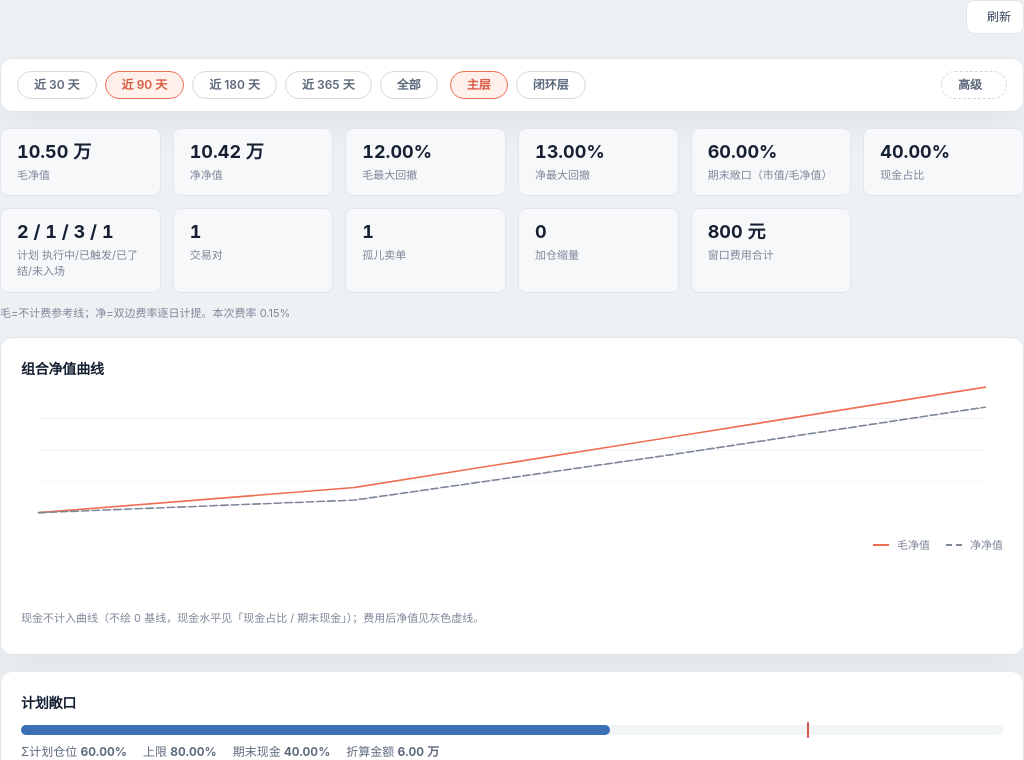
Test: ViewPortfolio › 高级三区默认关（portfolio-adv-start null），点「高级」后起始日/自选观察/假想线在
Click the button with test id "portfolio-adv-toggle" at (974,85), box [941, 71, 1007, 99]
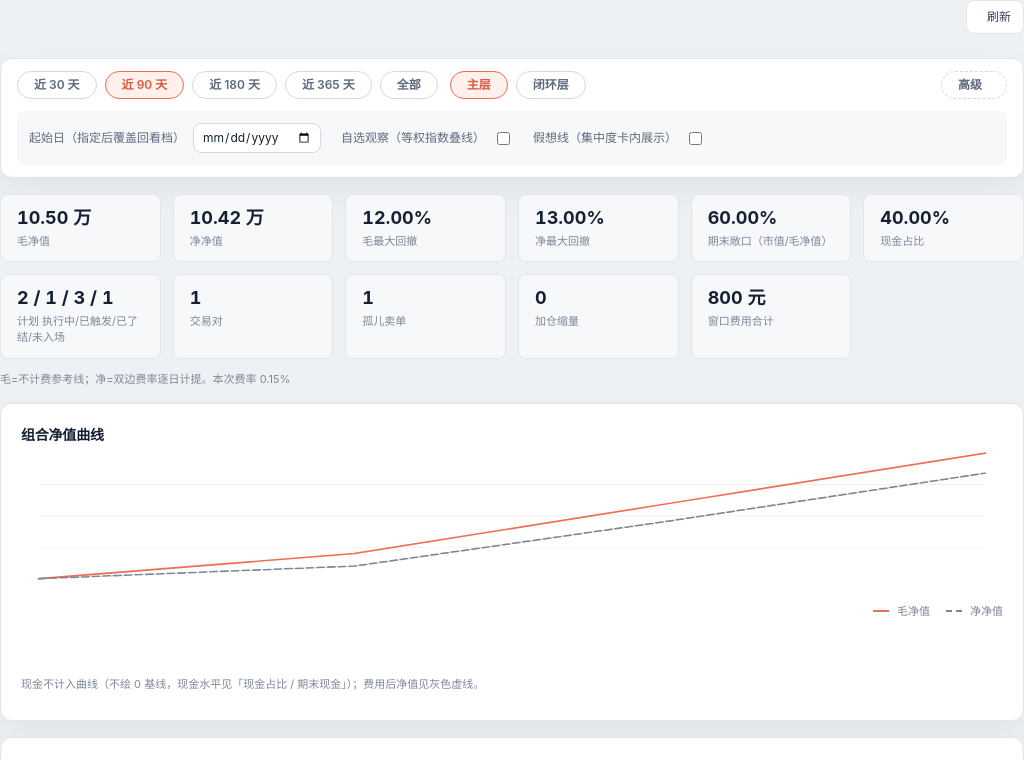
Now the text "起始日（指定后覆盖回看档）" is shown, box [29, 123, 321, 153]
Now the text "自选观察（等权指数叠线）" is shown, box [341, 130, 510, 145]
Now the text "假想线（集中度卡内展示）" is shown, box [533, 130, 702, 145]
